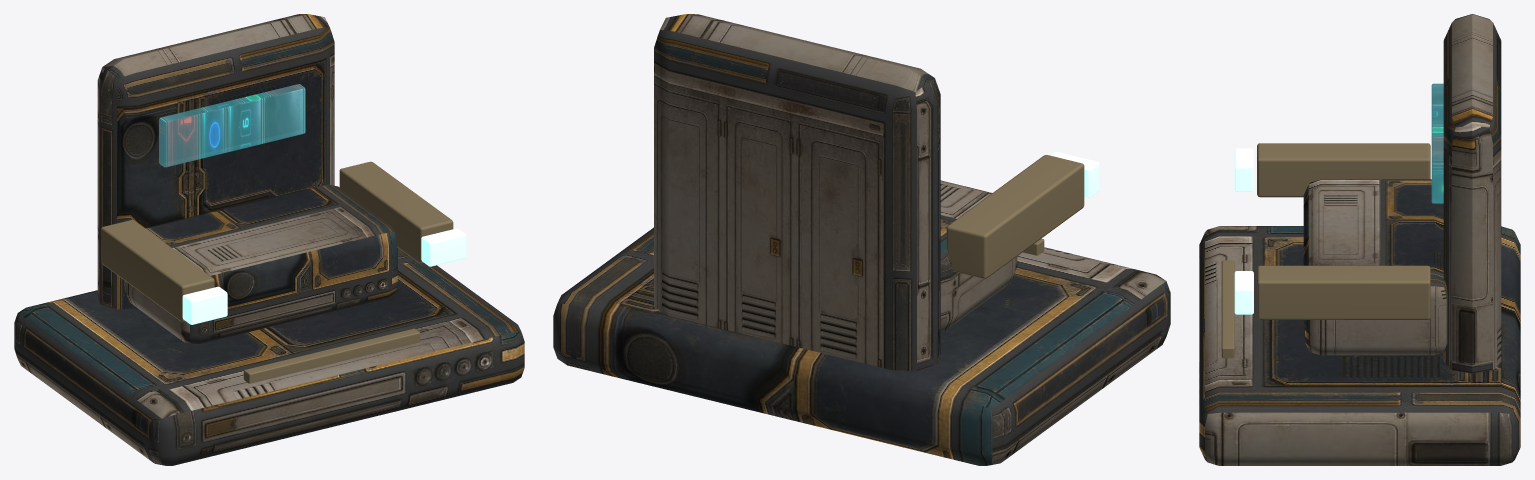
Rendered from hp_room_service_robot_dock_residential.glb.
3 views of the same model, side by side, from view 1: azimuth 30°, elevation 25°; view 2: azimuth 150°, elevation 25°; view 3: azimuth 270°, elevation 25° (orthographic). The views are drawn at different scales.
Parts seen in each view (by area): view 1: charging_dock_floor_plinth, rear_power_column, central_empty_cradle_space, rear_charge_status_screen_image2, dock_side_clamp_arm, dock_side_clamp_arm.001, small_gold_service_slot, dock_cyan_charge_tip, dock_cyan_charge_tip.001; view 2: rear_power_column, charging_dock_floor_plinth, dock_side_clamp_arm, central_empty_cradle_space, dock_cyan_charge_tip; view 3: charging_dock_floor_plinth, rear_power_column, central_empty_cradle_space, dock_side_clamp_arm.001, dock_side_clamp_arm, rear_charge_status_screen_image2, small_gold_service_slot, dock_cyan_charge_tip, dock_cyan_charge_tip.001.
Part boxes in pixels (bbox=[...]): charging_dock_floor_plinth: bbox=[14, 248, 524, 465]; rear_power_column: bbox=[97, 14, 334, 309]; central_empty_cradle_space: bbox=[124, 184, 397, 343]; rear_charge_status_screen_image2: bbox=[159, 84, 305, 167]; dock_side_clamp_arm: bbox=[101, 220, 214, 322]; dock_side_clamp_arm.001: bbox=[339, 161, 453, 264]; small_gold_service_slot: bbox=[243, 328, 420, 383]; dock_cyan_charge_tip: bbox=[182, 286, 227, 324]; dock_cyan_charge_tip.001: bbox=[421, 228, 466, 266]; rear_power_column: bbox=[654, 14, 940, 371]; charging_dock_floor_plinth: bbox=[553, 227, 1170, 465]; dock_side_clamp_arm: bbox=[946, 155, 1084, 278]; central_empty_cradle_space: bbox=[940, 180, 1017, 331]; dock_cyan_charge_tip: bbox=[1051, 152, 1099, 197]; charging_dock_floor_plinth: bbox=[1199, 226, 1520, 465]; rear_power_column: bbox=[1443, 14, 1501, 373]; central_empty_cradle_space: bbox=[1303, 179, 1447, 355]; dock_side_clamp_arm.001: bbox=[1257, 265, 1430, 319]; dock_side_clamp_arm: bbox=[1257, 143, 1430, 197]; rear_charge_status_screen_image2: bbox=[1431, 83, 1443, 203]; small_gold_service_slot: bbox=[1221, 260, 1234, 358]; dock_cyan_charge_tip: bbox=[1234, 148, 1253, 191]; dock_cyan_charge_tip.001: bbox=[1234, 271, 1253, 314].
Bounding box in the file's own units: 1.29 × 0.9898 × 0.9133.
5 materials, 3 textured.
